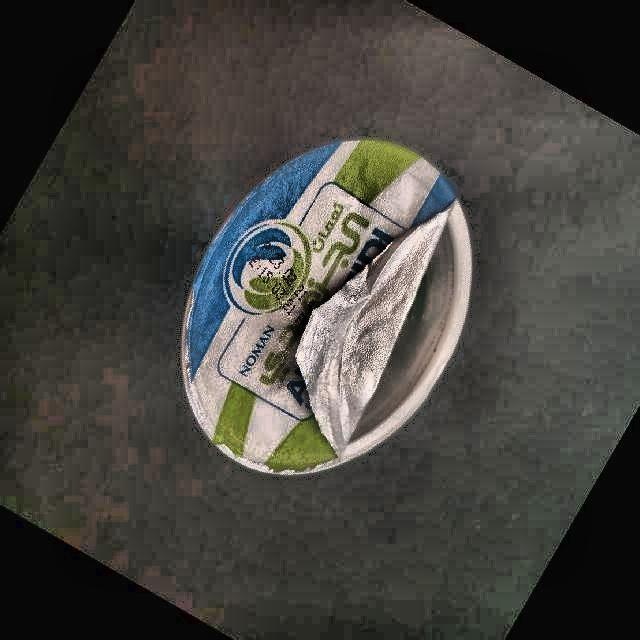plastic: (182, 139, 472, 474)
